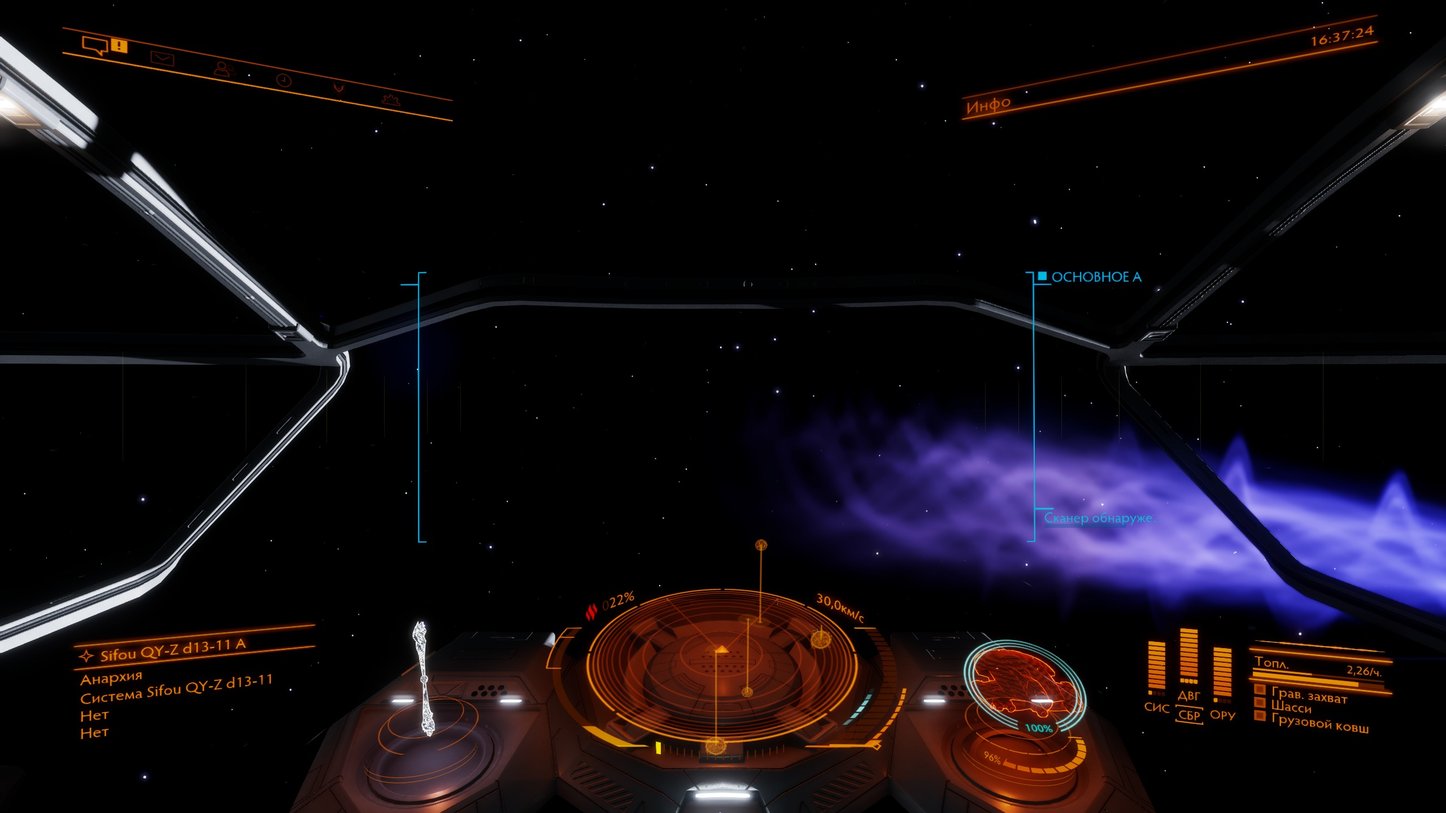jetcone: (797, 413, 1444, 628)
